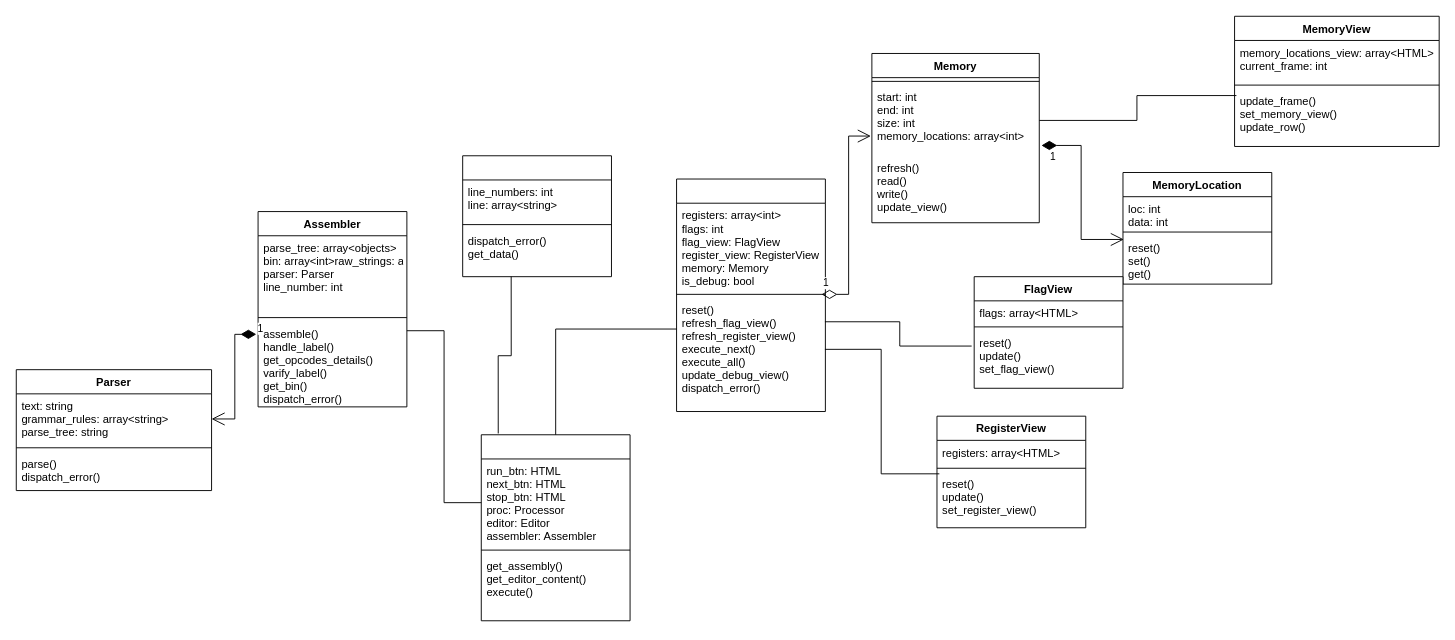
Image size: 1455x640. Some labels were removed from this diagram. Here are the shapes that lost their labels. From the top down, the box of each, then its label:
(462, 155, 611, 277): Editor
(676, 178, 825, 412): Processor
(480, 434, 630, 621): Controller
